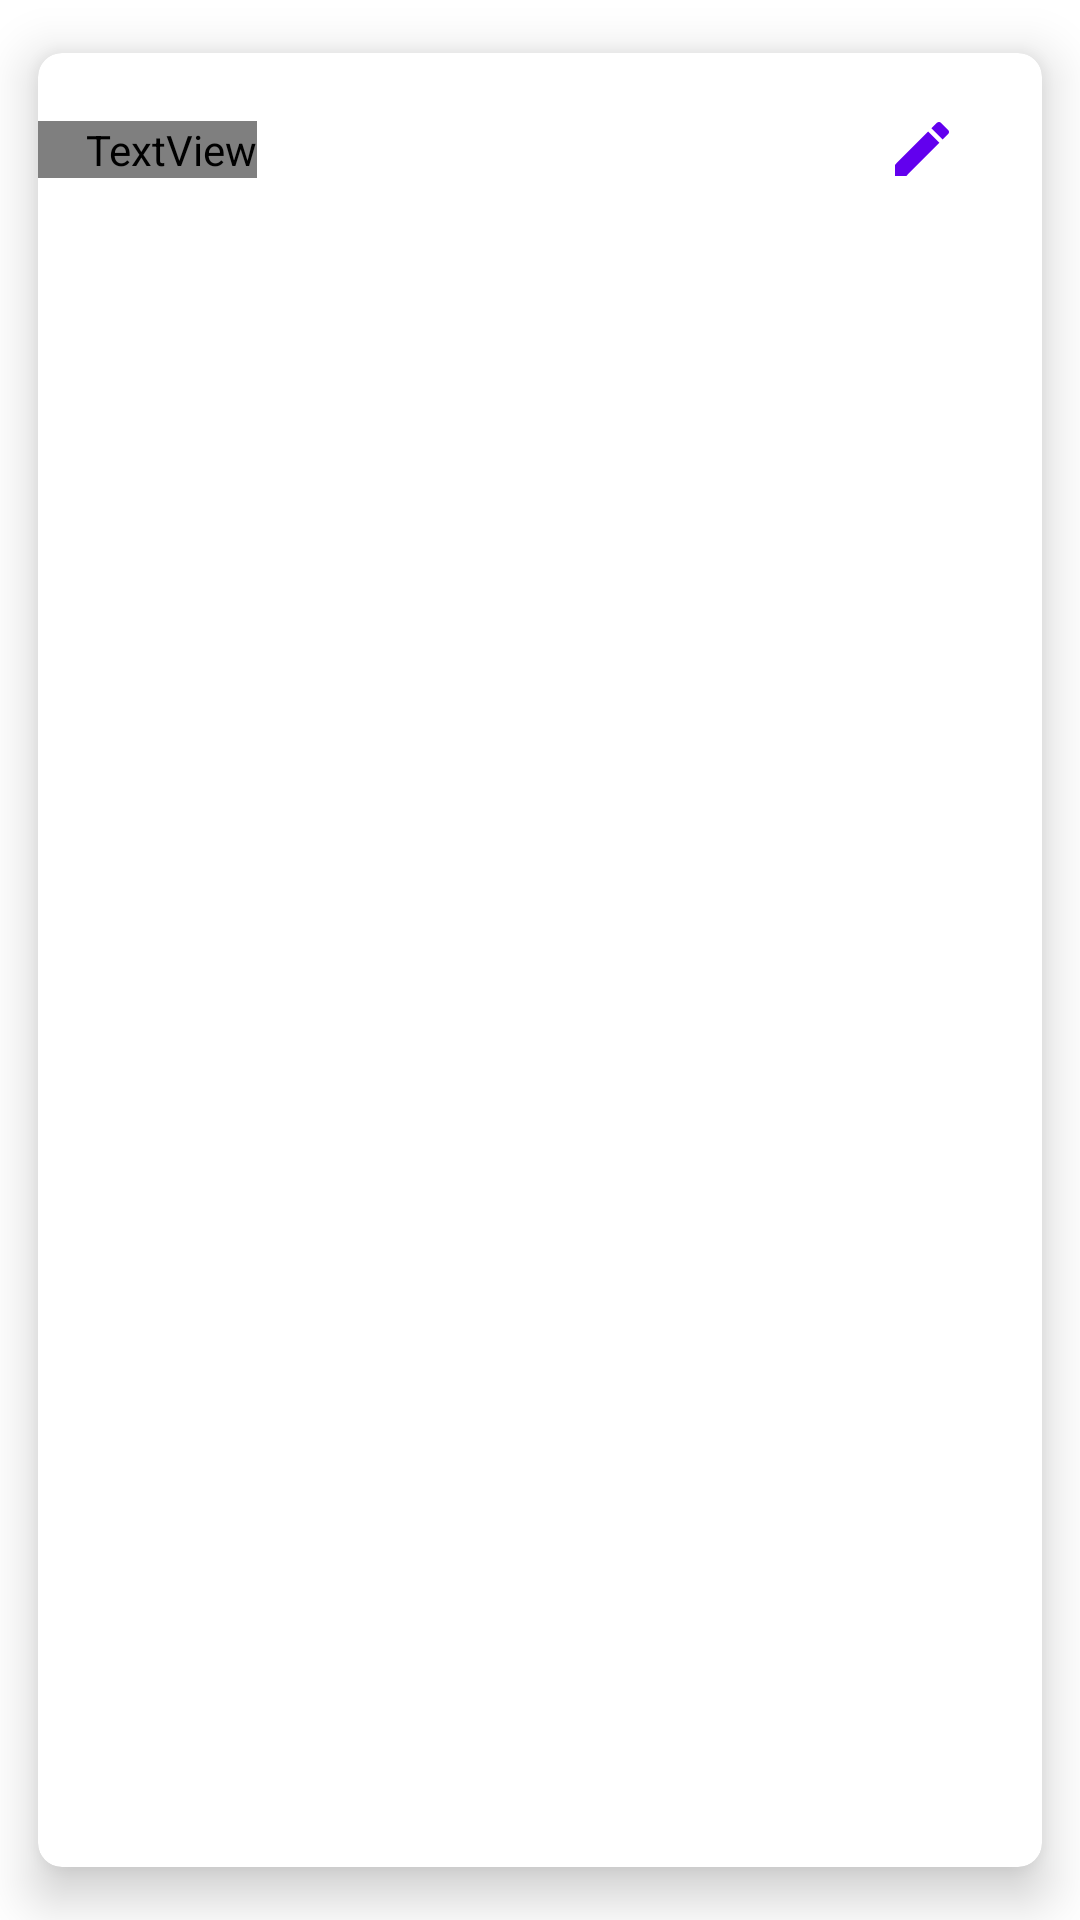

Icon click points for this 1080px×1920px phone screenshot, format point (x, y):
edit: point (922, 149)
